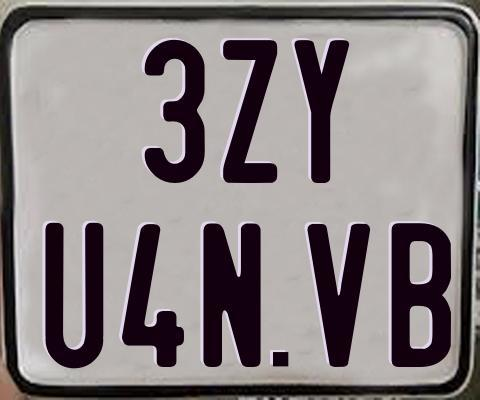3: (144, 39, 210, 182)
4: (120, 223, 184, 368)
B: (391, 223, 451, 369)
N: (200, 221, 264, 368)
U: (42, 222, 100, 374)
V: (305, 223, 374, 369)
Y: (294, 40, 353, 185)
Z: (220, 39, 279, 185)
